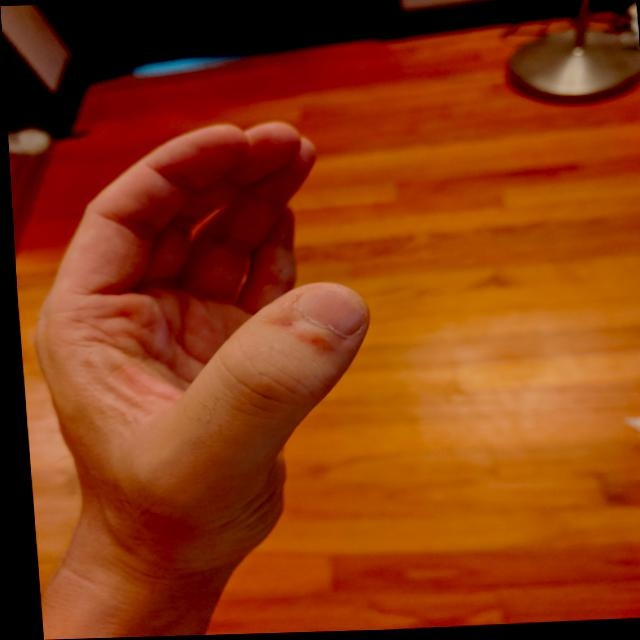C: (6, 113, 391, 571)
